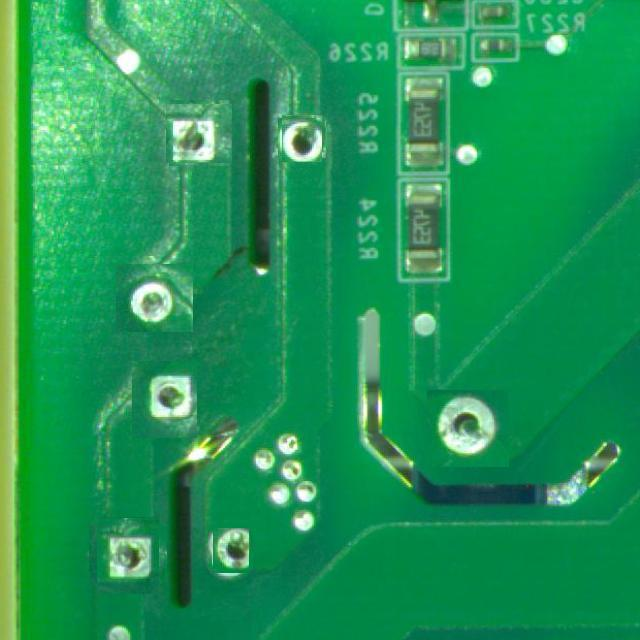lack_of_part: (426, 390, 509, 468), (118, 262, 190, 334), (131, 360, 197, 438), (94, 520, 164, 590), (168, 102, 230, 164), (280, 116, 324, 160), (210, 530, 251, 571)
